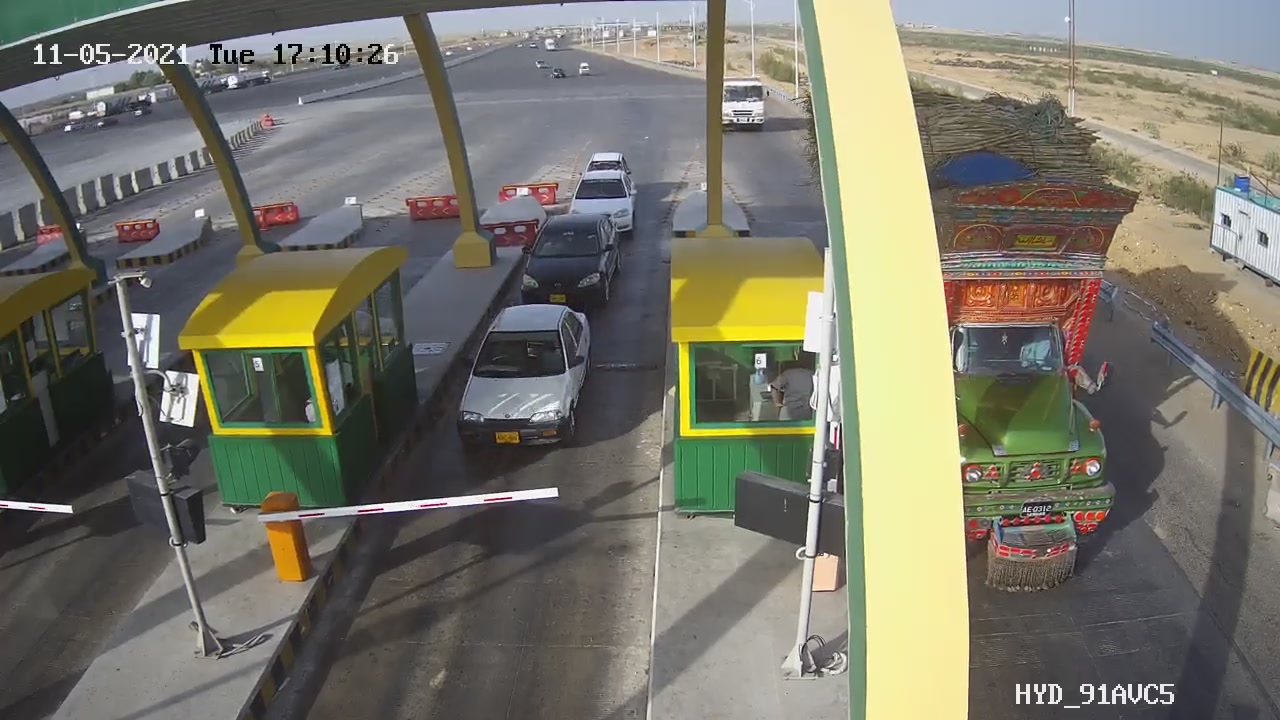F1: (434, 273, 612, 478), (505, 204, 638, 330)
